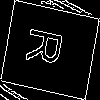R: (25, 25, 72, 71)
